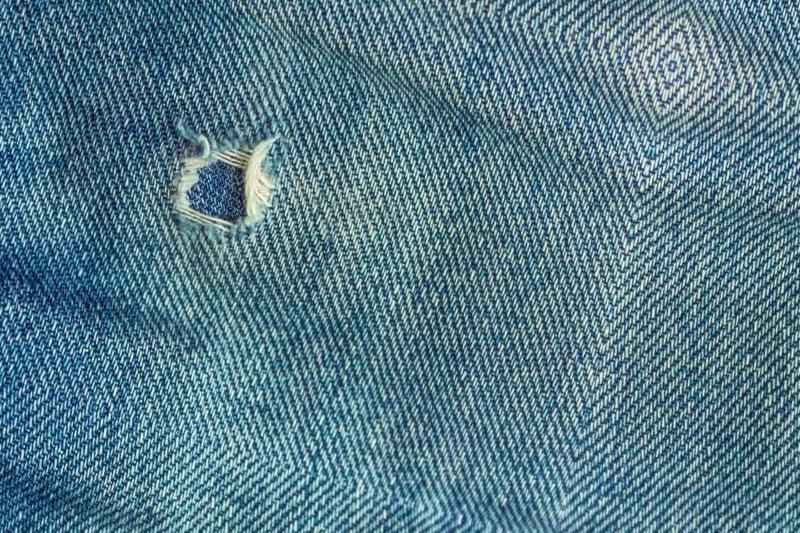hole: (161, 137, 286, 245)
